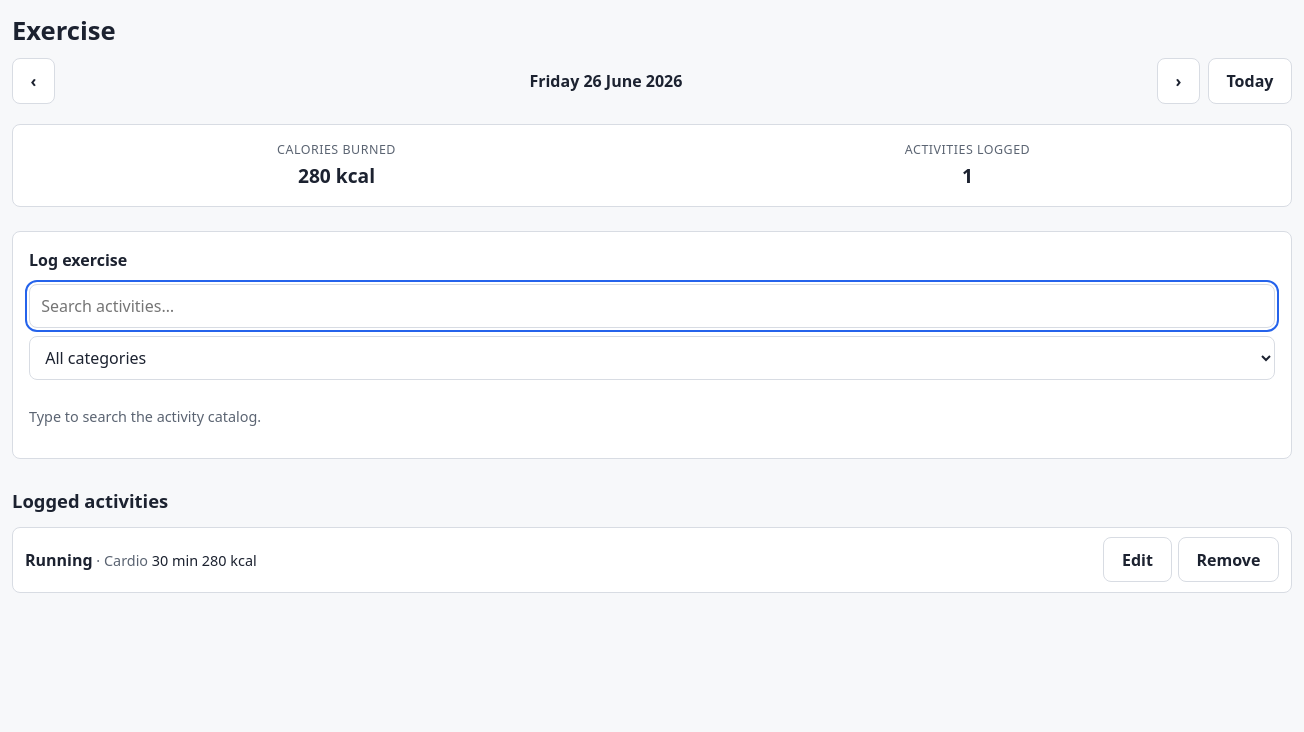
Scenario: ExercisePage › clears the 422 prompt after navigating to the previous day
Type "run" into the search field at (652, 306), box [29,284,1275,328]
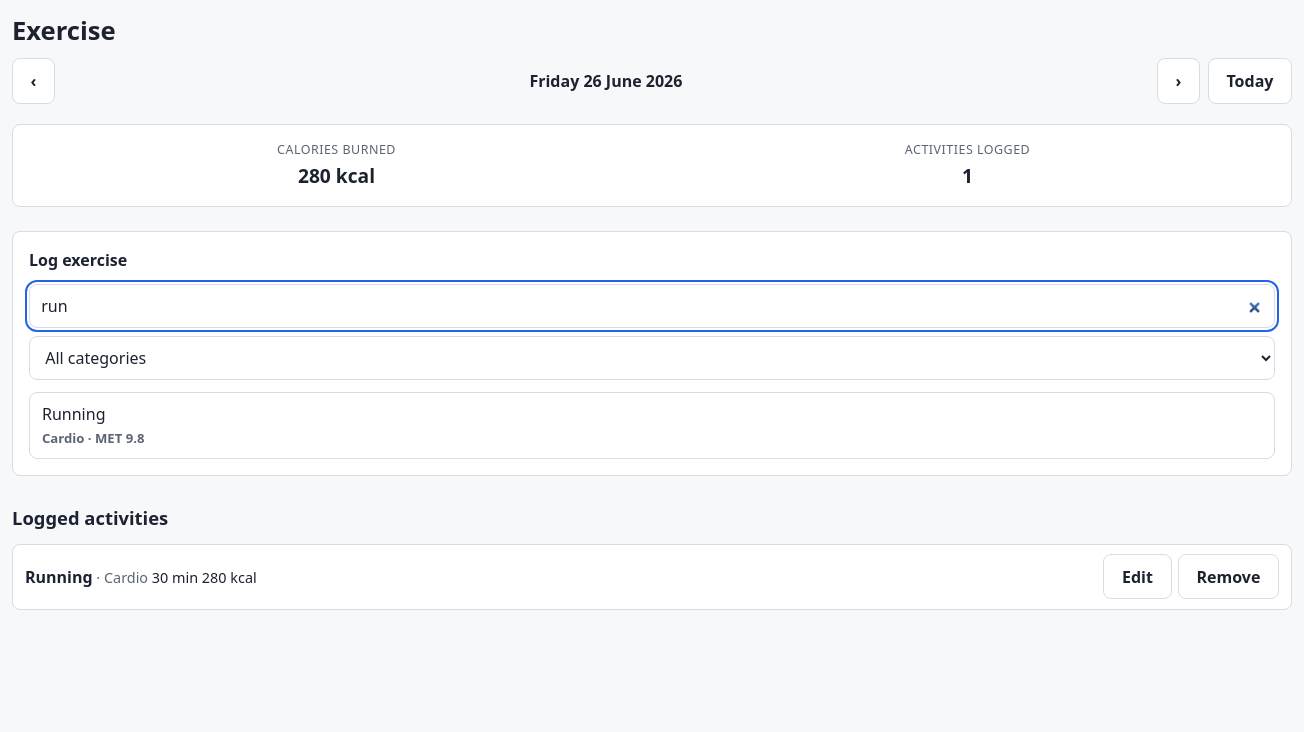
Click the button "Running Cardio · MET 9.8" at (74, 414), box [29,392,1275,459]
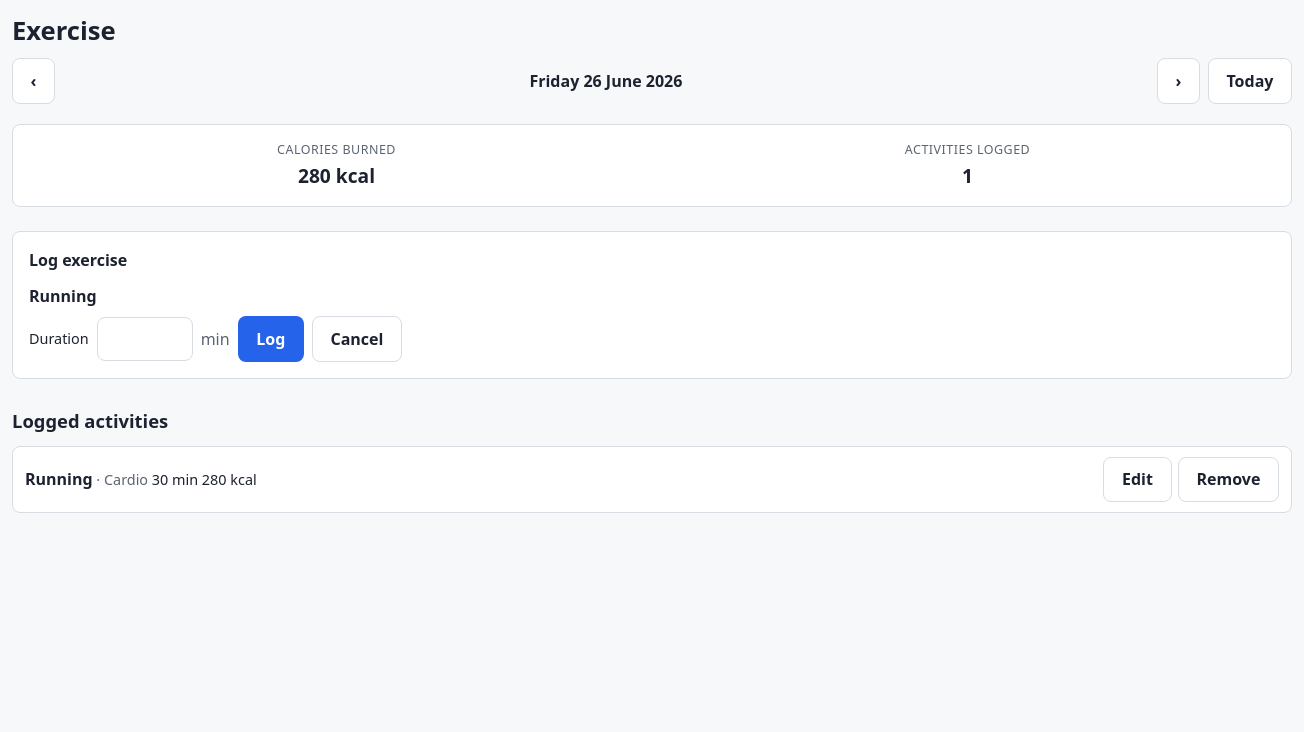
Type "30" into the number field labelled "Duration" at (145, 339), box [97,317,193,361]
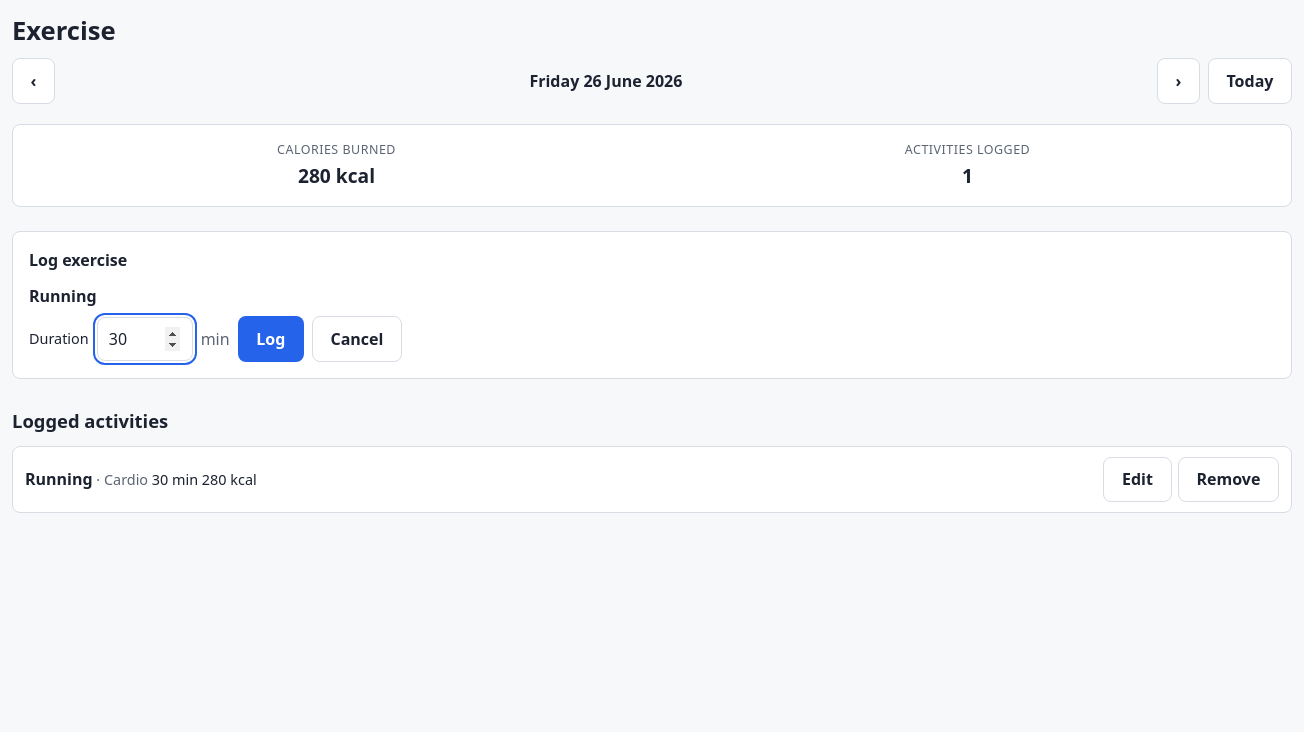
Click the button "Log" at (271, 339), box [238,316,304,362]
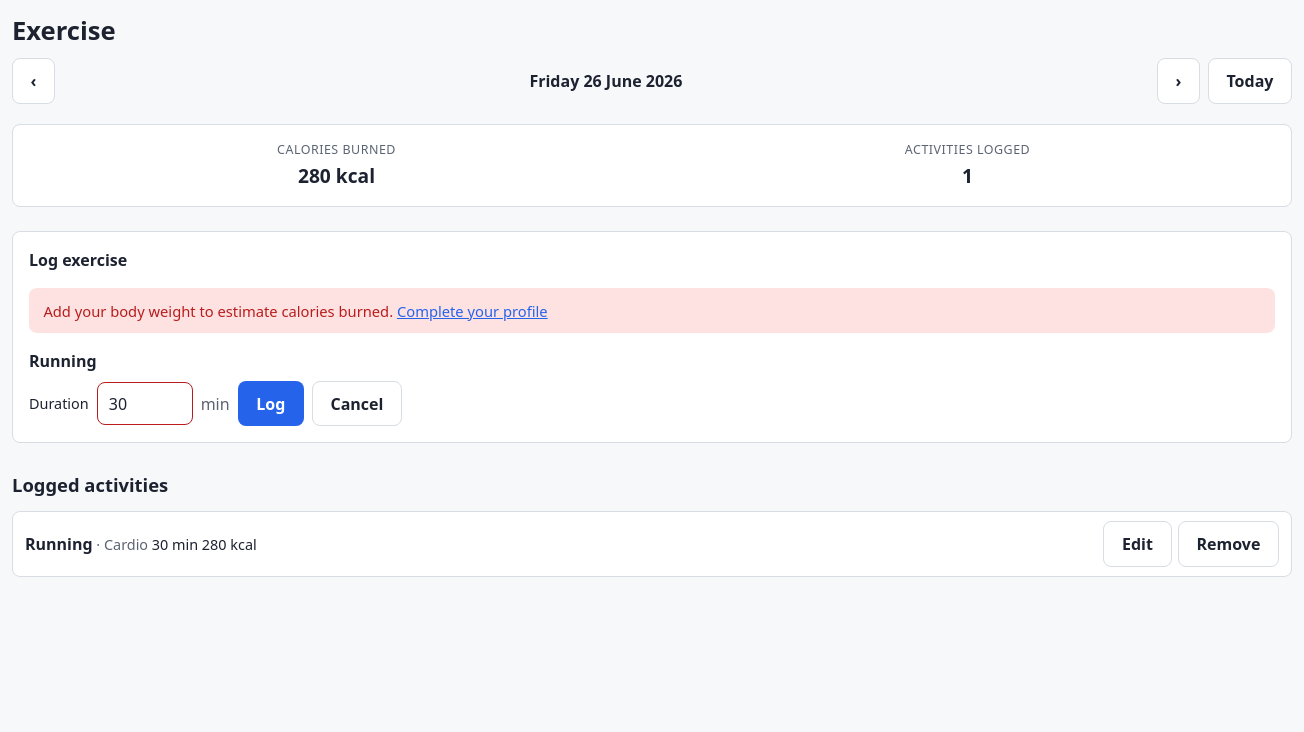
Expected: the link "Complete your profile" is shown, [397,301,548,321]
Click the button named "previous day" at (34, 81), box [12,58,55,104]
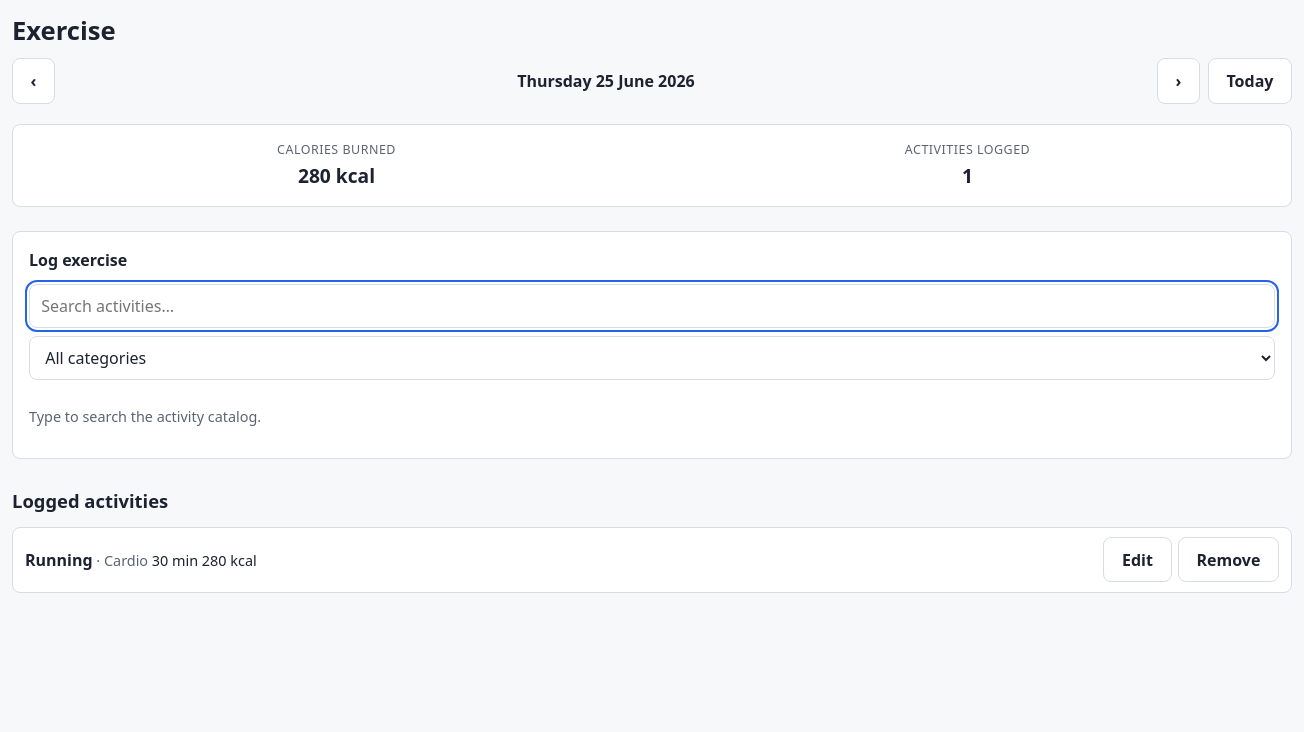
Expected: the link "Complete your profile" is gone
